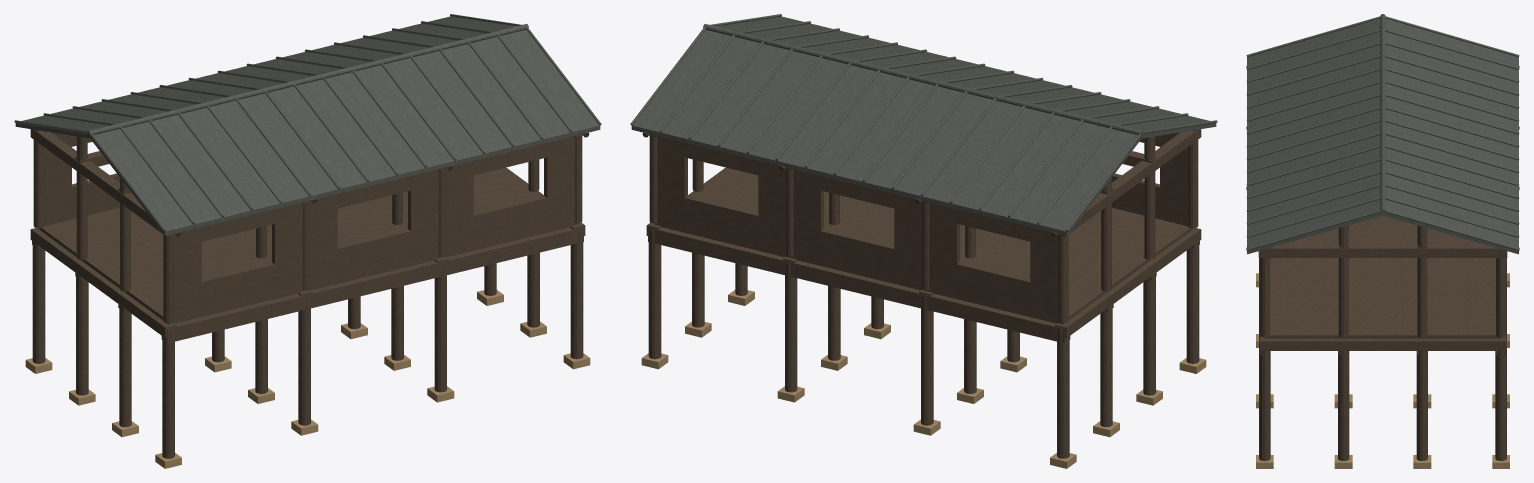
File: gallery-A-LOD1.glb
3 views of the same model, side by side, from view 1: azimuth 30°, elevation 25°; view 2: azimuth 150°, elevation 25°; view 3: azimuth 270°, elevation 25° (orthographic). The views are drawn at different scales.
Visible parts, largest first — view 1: gallery-A-static_timber, gallery-A-static_tile, gallery-A-static_earth; view 2: gallery-A-static_timber, gallery-A-static_tile, gallery-A-static_earth; view 3: gallery-A-static_tile, gallery-A-static_timber, gallery-A-static_earth.
Part boxes in pixels (x1,y1,x2,y2): gallery-A-static_timber: (30,129,589,458); gallery-A-static_tile: (14,14,601,235); gallery-A-static_earth: (25,290,590,468); gallery-A-static_timber: (642,129,1201,458); gallery-A-static_tile: (630,14,1217,235); gallery-A-static_earth: (641,290,1206,468); gallery-A-static_tile: (1246,14,1519,254); gallery-A-static_timber: (1246,66,1519,460); gallery-A-static_earth: (1256,273,1509,468).
Size of the model in its own units: 12.9 by 8.1 by 7.65.
Materials: 3 (3 with a texture image).
